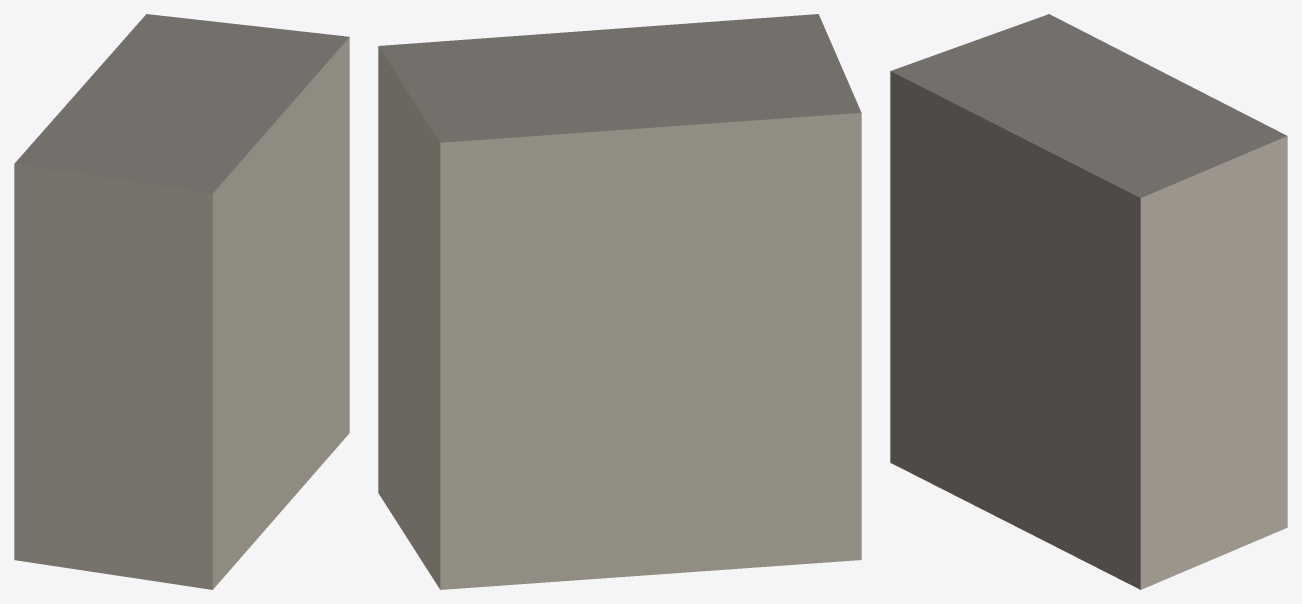
3 views of the same model, side by side, from view 1: azimuth 30°, elevation 25°; view 2: azimuth 150°, elevation 25°; view 3: azimuth 270°, elevation 25° (orthographic). The views are drawn at different scales.
Visible parts, largest first — view 1: HP-w729793767; view 2: HP-w729793767; view 3: HP-w729793767.
Part boxes in pixels (box(x1,y1,x2,y2)): HP-w729793767: box(14, 14, 349, 589); HP-w729793767: box(378, 14, 861, 589); HP-w729793767: box(890, 14, 1287, 589).
Bounding box in the file's own units: 18.15 × 18 × 16.53.
